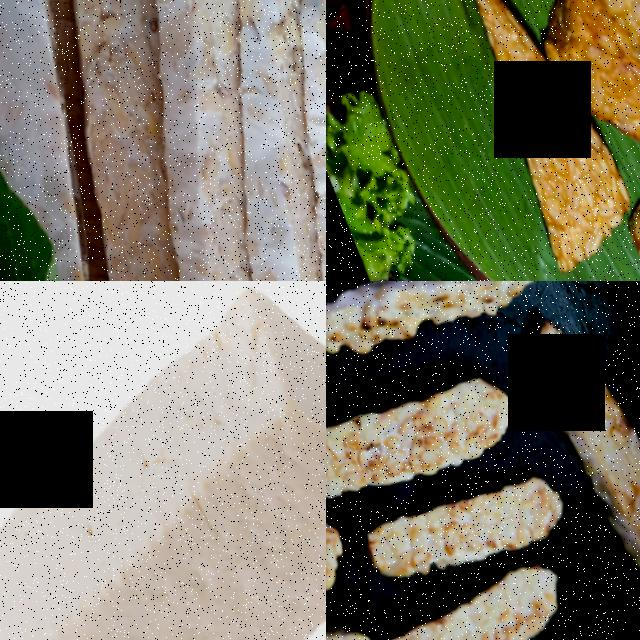tempeh: (0, 0, 326, 281), (448, 0, 631, 273), (326, 346, 535, 524), (518, 289, 640, 586), (362, 451, 572, 598), (355, 542, 582, 640), (326, 281, 551, 377)
tofu: (0, 281, 326, 640)
